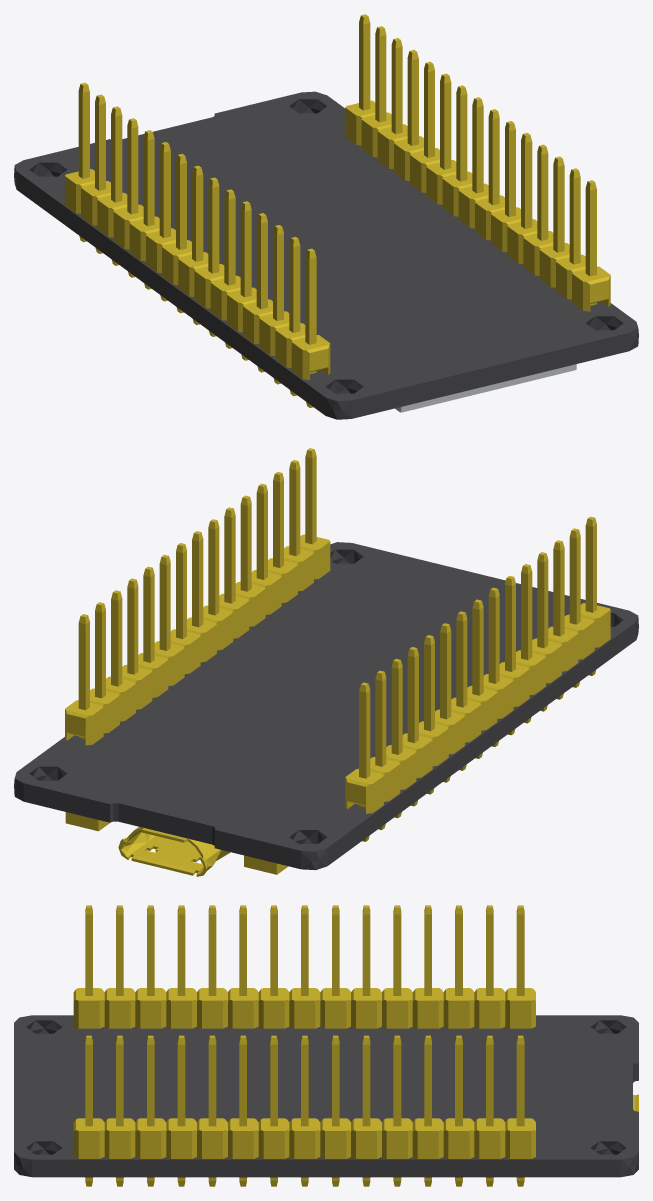
Rendered from esp32.glb.
3 renders of one model, top to bottom at view 1: azimuth 30°, elevation 25°; view 2: azimuth 150°, elevation 25°; view 3: azimuth 270°, elevation 25°, orthographic. The views are drawn at different scales.
Parts seen in each view (by area): view 1: geometry_0; view 2: geometry_0; view 3: geometry_0.
Part boxes in pixels (left/top/right/bottom): geometry_0: left=14, top=14, right=638, bottom=419; geometry_0: left=14, top=448, right=638, bottom=876; geometry_0: left=14, top=905, right=638, bottom=1186.
Bounding box in the file's own units: 0.4223 × 0.2251 × 0.7725.
